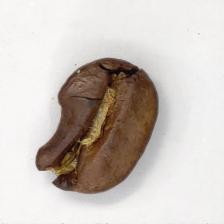NG: (35, 83, 100, 193)
